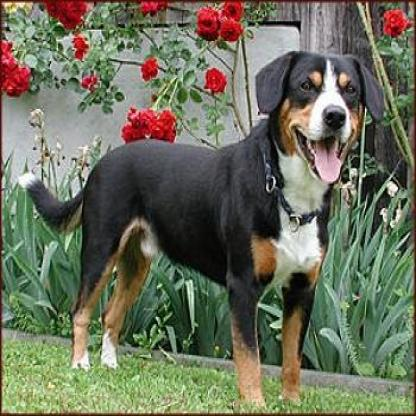EntleBucher: (14, 48, 389, 413)
